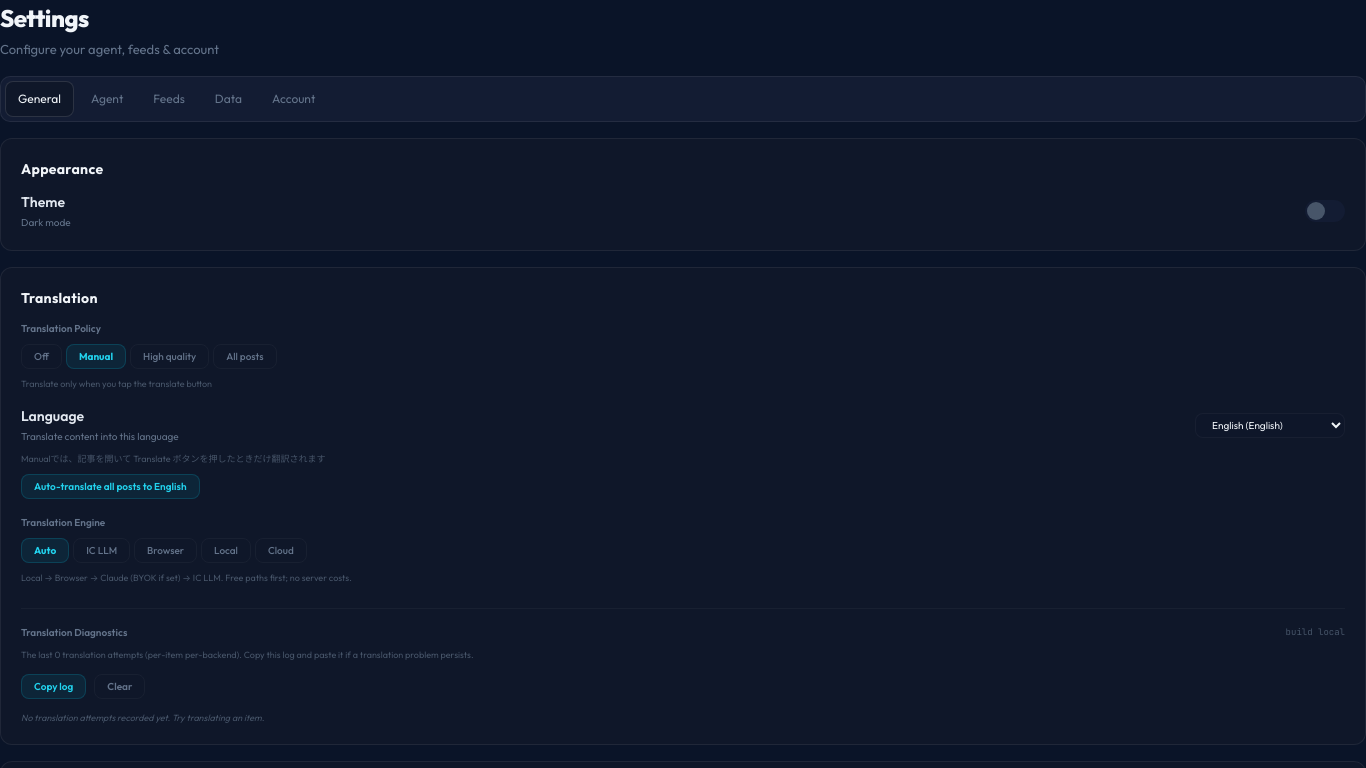
Test: SettingsTab — sub-tab click navigation › switches to Agent tab on click
What coordinates should you click on to do the following:
click the button with test id "settings-tab-agent"
I would click on:
 (107, 98)
Its box is [78,80,136,116].
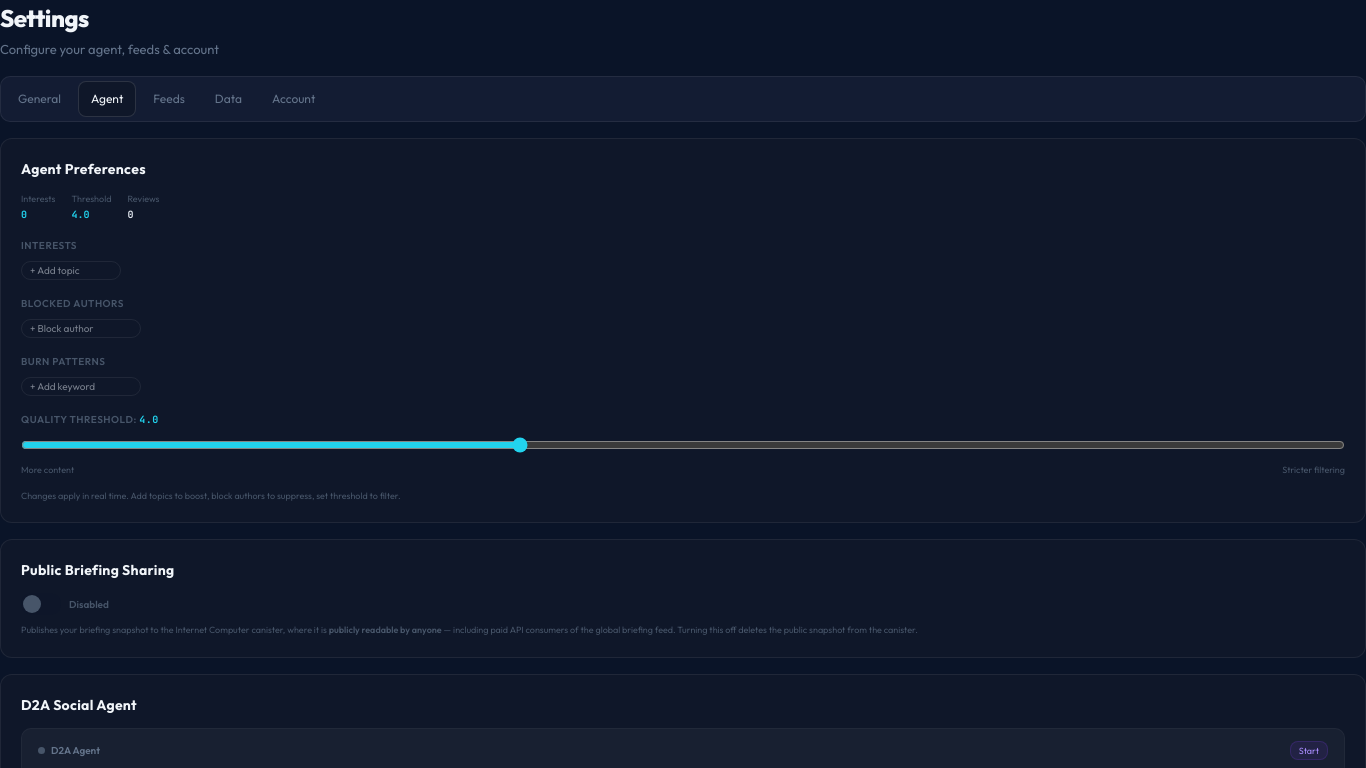
Result: the text "Agent Preferences" is shown at [21,160,146,178]
Result: the text "D2A Social Agent" is shown at [21,696,137,714]
Result: the text "Appearance" is gone
